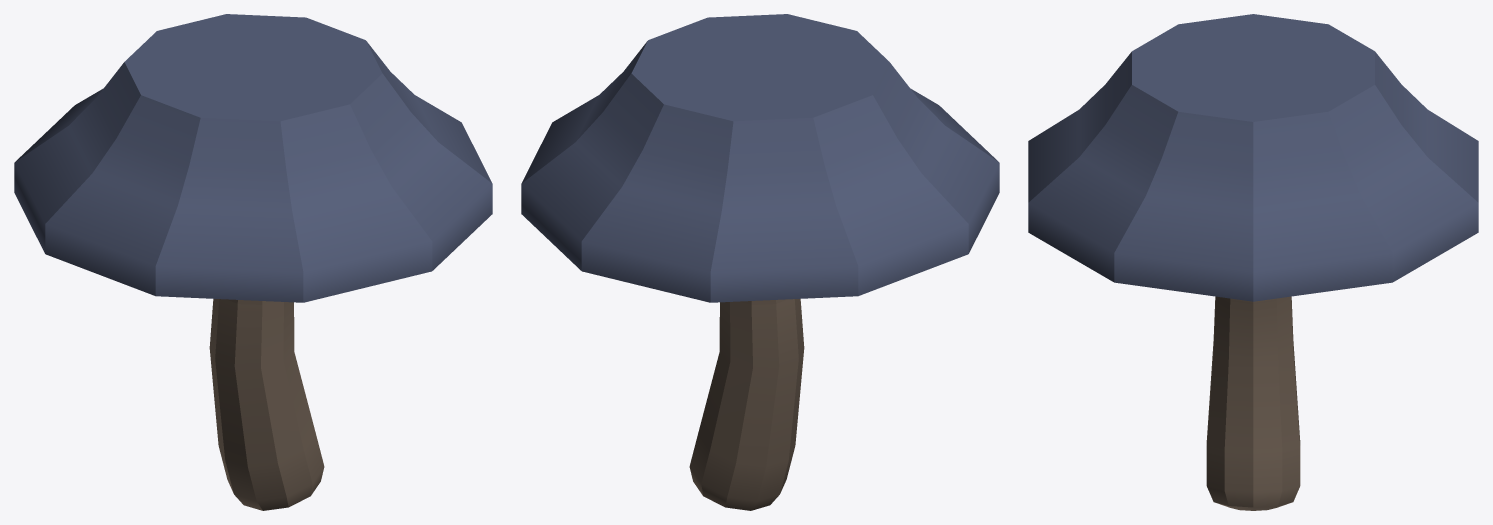
The model's file is Mushroom0.fbx.
3 views of the same model, side by side, from view 1: azimuth 30°, elevation 25°; view 2: azimuth 150°, elevation 25°; view 3: azimuth 270°, elevation 25° (orthographic).
Parts seen in each view (by area): view 1: Mushroom0; view 2: Mushroom0; view 3: Mushroom0.
Boxes of the visible parts, bbox=[...] form: Mushroom0: bbox=[14, 14, 492, 510]; Mushroom0: bbox=[521, 14, 999, 510]; Mushroom0: bbox=[1028, 14, 1478, 510].
Bounding box in the file's own units: 5.91 × 5.93 × 5.62.
